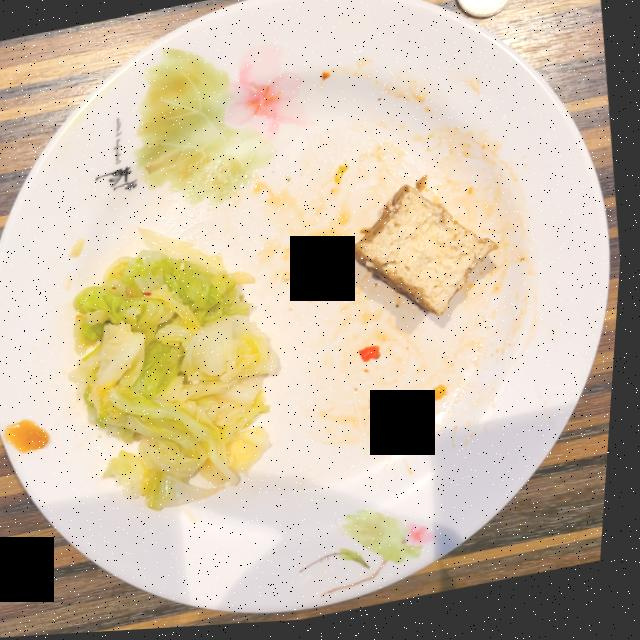cabbage: (76, 239, 282, 513)
coin: (456, 0, 513, 24)
egg tofu: (354, 190, 501, 322)
